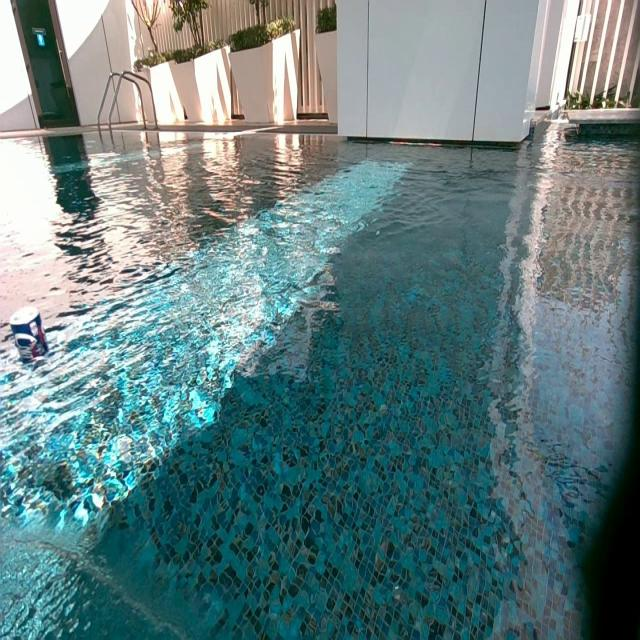Cans: (10, 304, 46, 347)
